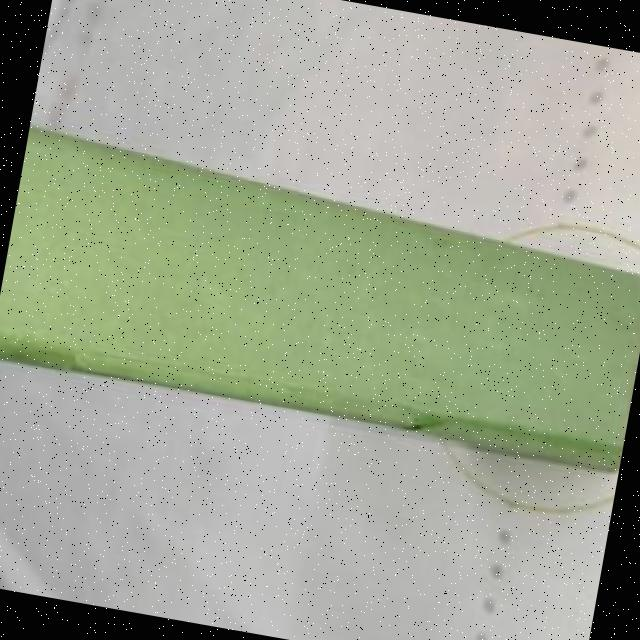greenbox: (0, 112, 640, 483)
